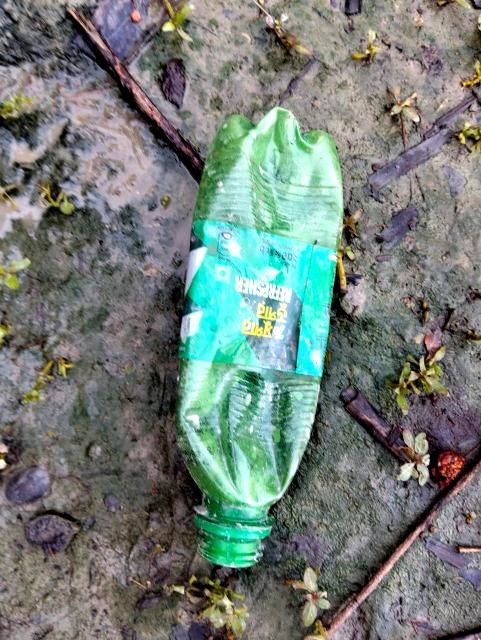bottle: (189, 106, 333, 578)
